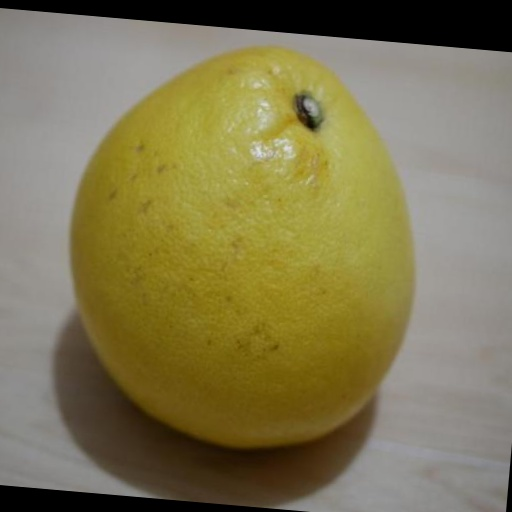fruit: (71, 47, 413, 447)
